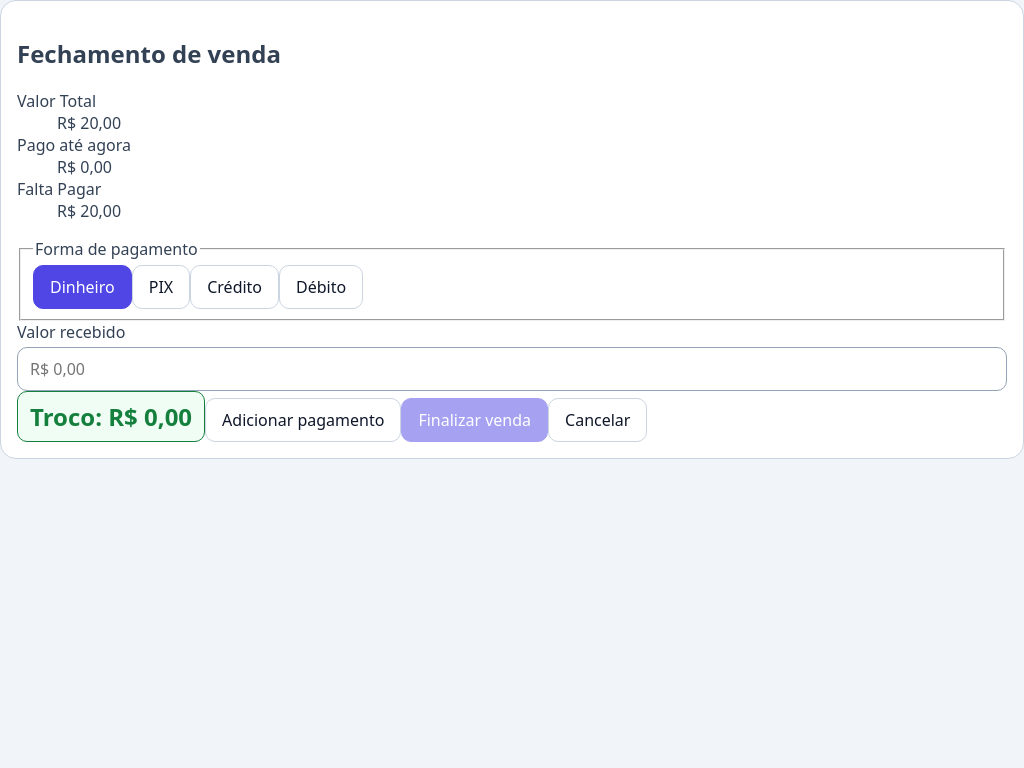
Scenario: PaymentModal › adiciona PIX parcial e recalcula a falta
Click the button "PIX" at (161,287), box [132,265,190,309]
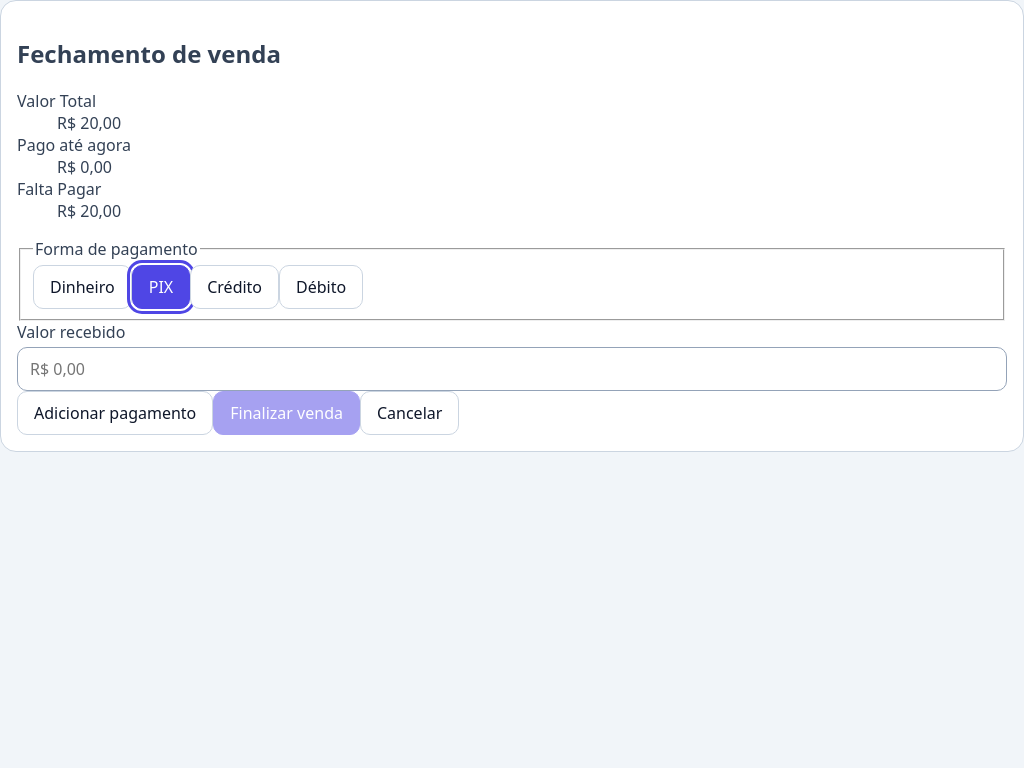
Type "400" into the field labelled "Valor recebido" at (512,369), box [17,347,1007,391]
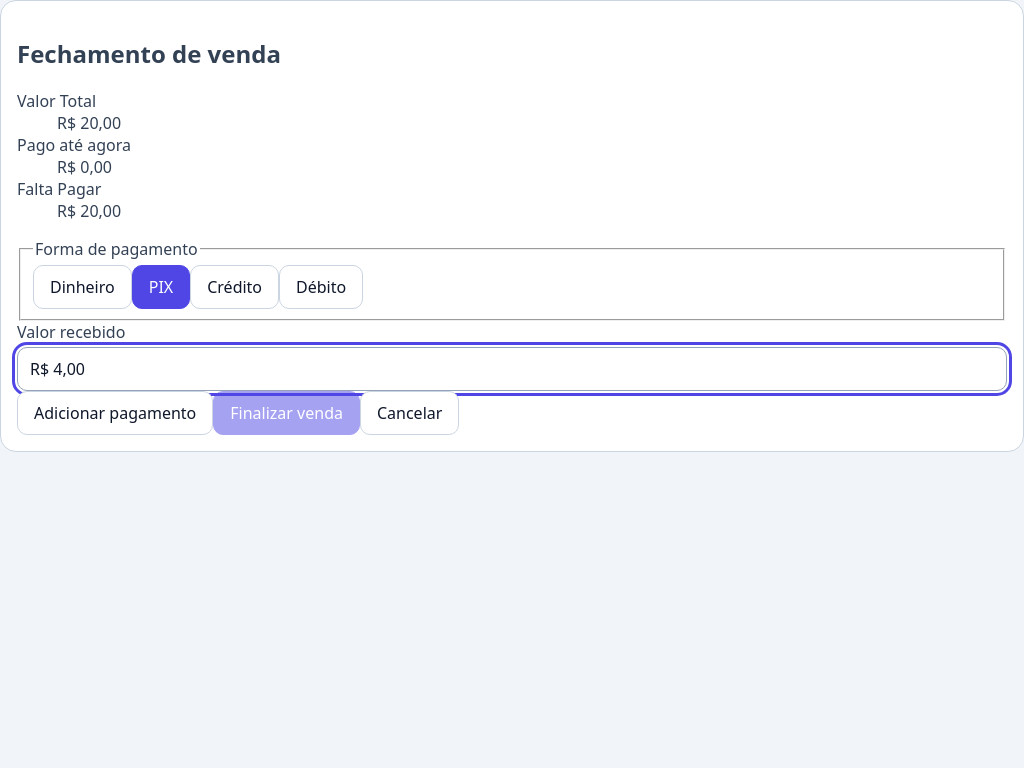
Click the button "Adicionar pagamento" at (115,413), box [17,391,213,435]
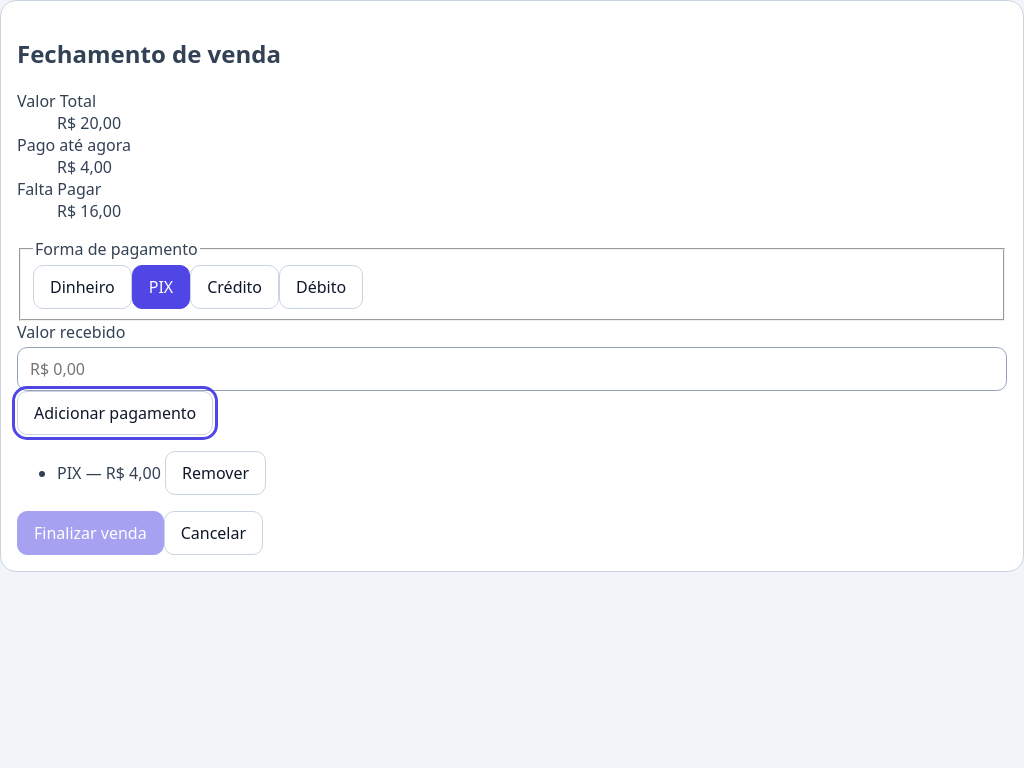
Result: the text "R$ 4,00" is shown at [57,156,112,178]
Result: the text "R$ 16,00" is shown at [57,200,121,222]
Result: the list item "PIX — R$ 4,00 Remover" is shown at [57,451,266,495]
